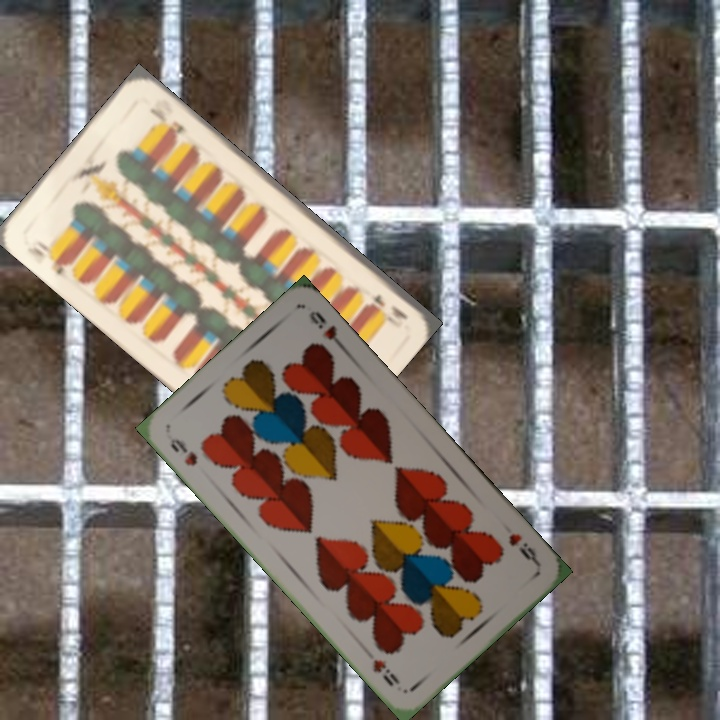E10: (23, 236, 74, 277), (367, 290, 411, 323)
H9: (504, 529, 542, 568), (166, 434, 200, 469)
